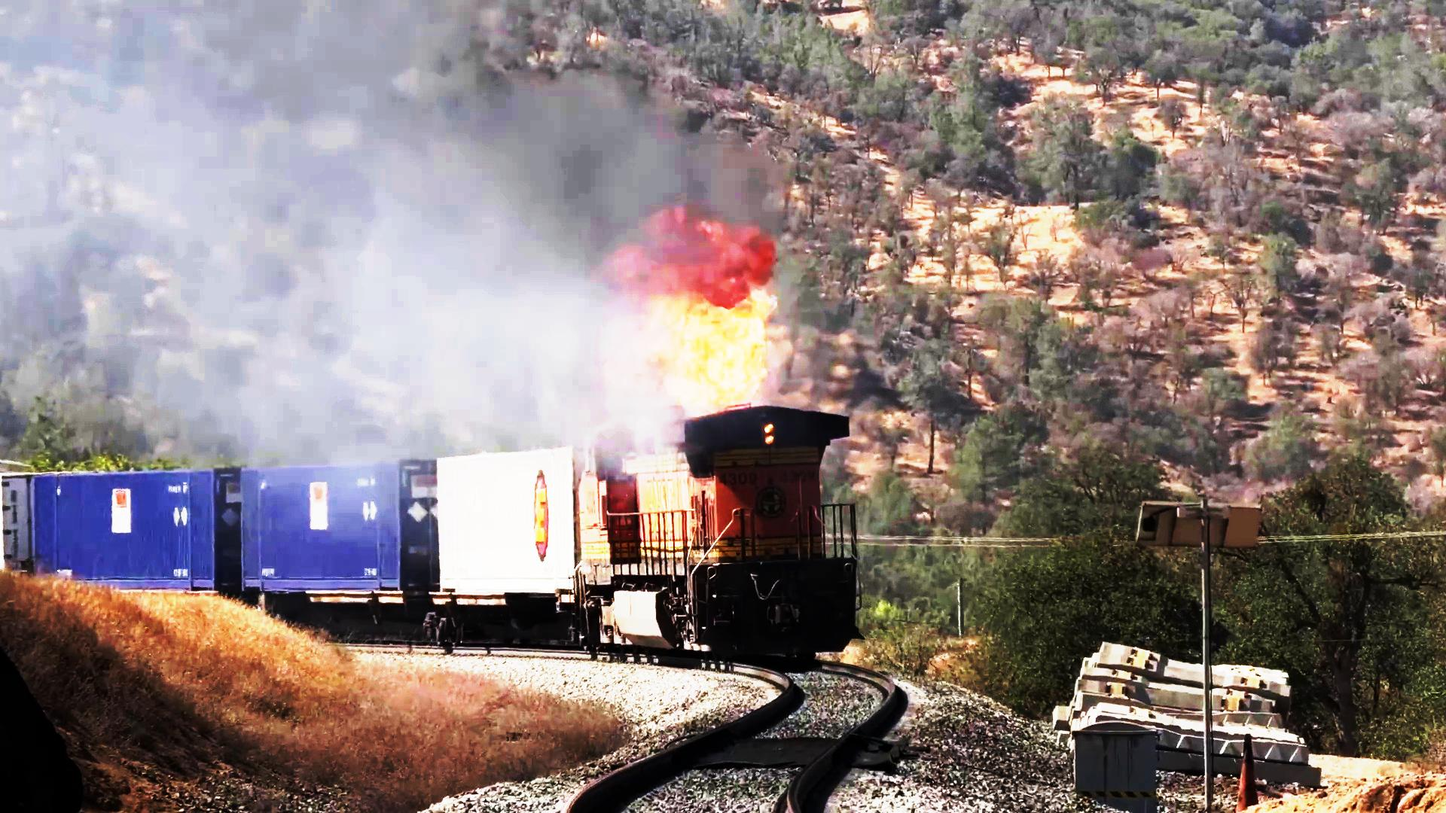fire: (309, 94, 567, 338), (614, 217, 776, 413)
